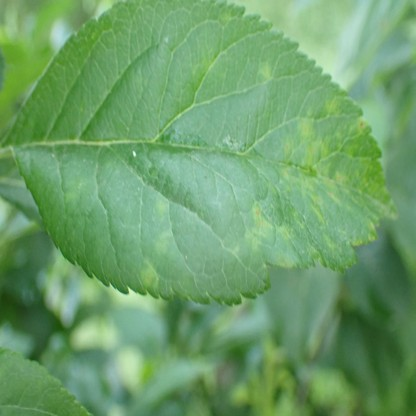scab: (279, 96, 381, 221), (246, 206, 270, 249), (196, 52, 214, 84), (138, 267, 160, 291), (155, 232, 170, 258), (275, 251, 294, 269), (154, 199, 171, 214), (259, 60, 271, 79), (277, 223, 291, 239), (219, 8, 232, 23), (65, 188, 77, 203), (323, 232, 335, 247), (350, 237, 362, 248), (368, 232, 375, 242)
